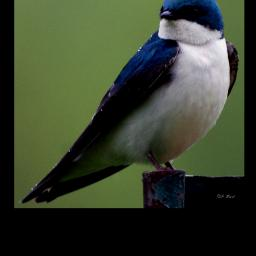Swallow: (20, 0, 239, 207)
